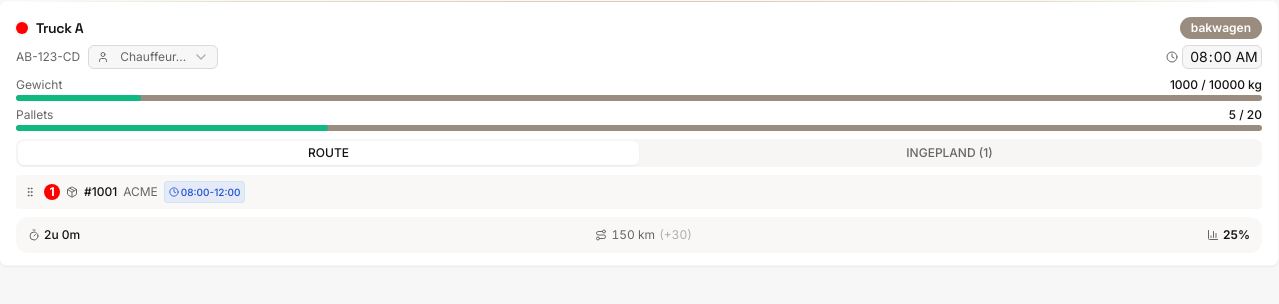
Test case: PlanningVehicleCard › renders INGEPLAND tab content when switched
// Switch to INGEPLAND tab using pointerDown
Press the mouse on the button "INGEPLAND (1)" at [950, 153], box [639,141,1260,165]
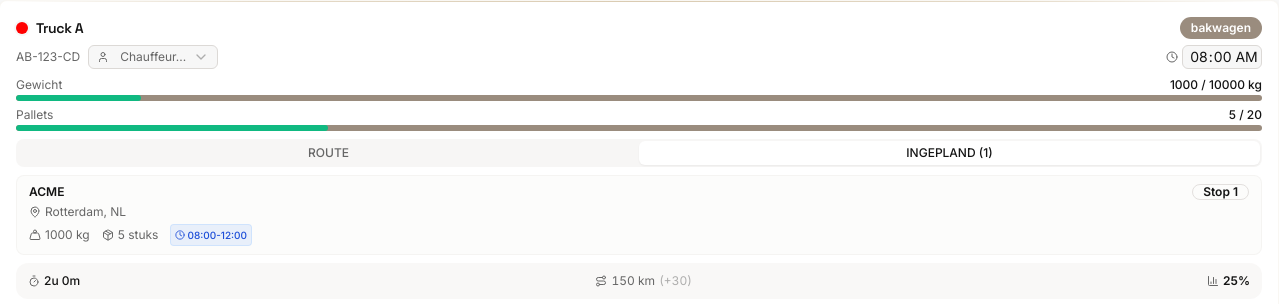
Expected: the text "ACME" is shown, [29,184,64,200]
Now the text "Stop 1" is shown, box [1192,184,1249,200]
Now the text "Rotterdam, NL" is shown, box [45,204,126,220]
